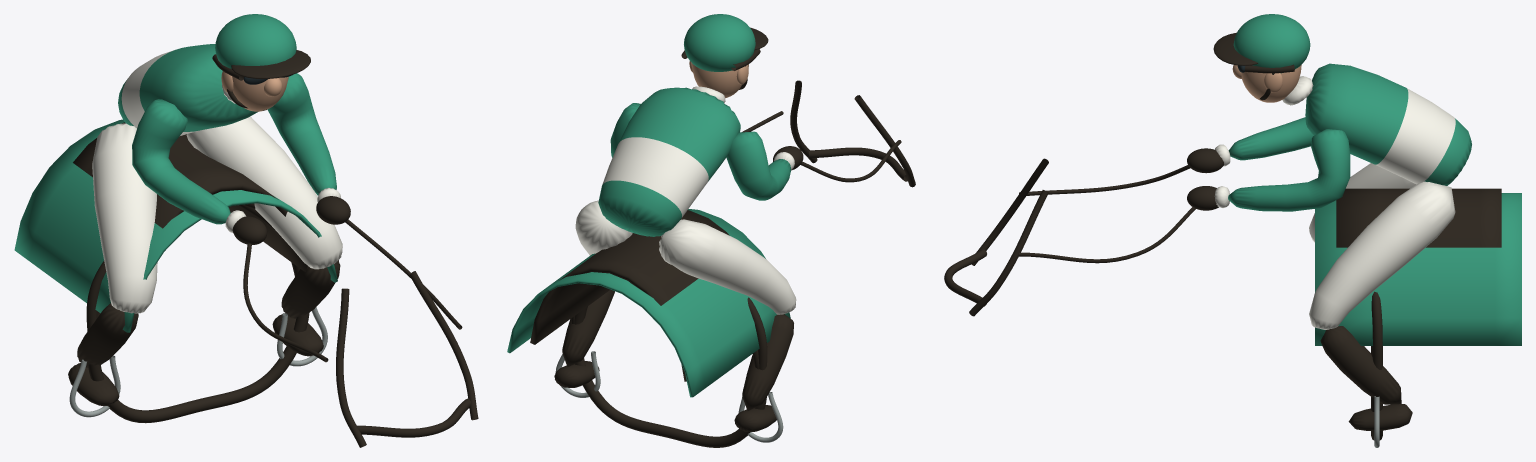
File: jockey.glb
The picture shows the model from 3 angles, left to right: view 1: azimuth 30°, elevation 25°; view 2: azimuth 150°, elevation 25°; view 3: azimuth 270°, elevation 25°; orthographic projection. The views are drawn at different scales.
Visible parts, largest first — view 1: Saddlecloth, Breeches, Breeches.001, JockeyJersey, Sleeve, RaceSaddle, Sleeve.001, Helmet, Girth, Boot, Boot.001, Bridle (+13 smaller); view 2: JockeyJersey, Saddlecloth, RaceSaddle, Breeches, Helmet, Sleeve, Girth, Boot, Boot.001, Breeches.001, JockeyHead, Noseband (+9 smaller); view 3: Saddlecloth, JockeyJersey, Breeches.001, RaceSaddle, Sleeve.001, Helmet, Boot.001, Sleeve, Breeches, BootToe.001, JockeyHead, Bridle.001 (+8 smaller).
Part boxes in pixels (x1=…): Saddlecloth: x1=14, y1=119, x2=337, y2=332; Breeches: x1=92, y1=123, x2=157, y2=313; Breeches.001: x1=186, y1=116, x2=342, y2=269; JockeyJersey: x1=118, y1=44, x2=258, y2=135; Sleeve: x1=132, y1=99, x2=230, y2=224; RaceSaddle: x1=73, y1=122, x2=307, y2=271; Sleeve.001: x1=267, y1=73, x2=336, y2=195; Helmet: x1=215, y1=14, x2=296, y2=68; Girth: x1=88, y1=205, x2=309, y2=423; Boot: x1=77, y1=303, x2=138, y2=368; Boot.001: x1=281, y1=260, x2=340, y2=318; Bridle: x1=336, y1=288, x2=366, y2=447; JockeyJersey: x1=598, y1=87, x2=740, y2=236; Saddlecloth: x1=507, y1=209, x2=790, y2=397; RaceSaddle: x1=530, y1=210, x2=729, y2=381; Breeches: x1=659, y1=219, x2=796, y2=314; Helmet: x1=684, y1=14, x2=755, y2=71; Sleeve: x1=726, y1=131, x2=791, y2=200; Girth: x1=574, y1=306, x2=766, y2=447; Boot: x1=742, y1=314, x2=793, y2=410; Boot.001: x1=562, y1=289, x2=614, y2=367; Breeches.001: x1=575, y1=200, x2=632, y2=255; JockeyHead: x1=692, y1=63, x2=748, y2=98; Noseband: x1=808, y1=147, x2=907, y2=181; Saddlecloth: x1=1315, y1=193, x2=1521, y2=345; JockeyJersey: x1=1305, y1=63, x2=1471, y2=185; Breeches.001: x1=1309, y1=181, x2=1455, y2=329; RaceSaddle: x1=1336, y1=188, x2=1501, y2=247; Sleeve.001: x1=1228, y1=129, x2=1350, y2=211; Helmet: x1=1233, y1=14, x2=1310, y2=73; Boot.001: x1=1320, y1=326, x2=1401, y2=404; Sleeve: x1=1228, y1=117, x2=1313, y2=160; Breeches: x1=1309, y1=163, x2=1416, y2=242; BootToe.001: x1=1348, y1=404, x2=1412, y2=430; JockeyHead: x1=1241, y1=65, x2=1301, y2=102; Bridle.001: x1=969, y1=190, x2=1048, y2=316.
Size of the model in its own units: 0.9245 by 1.49 by 1.95.
